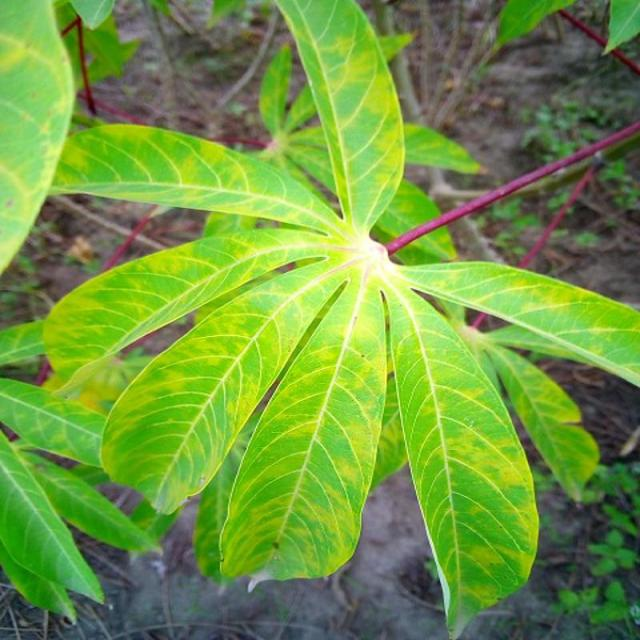cassava leaf: (17, 0, 638, 637)
